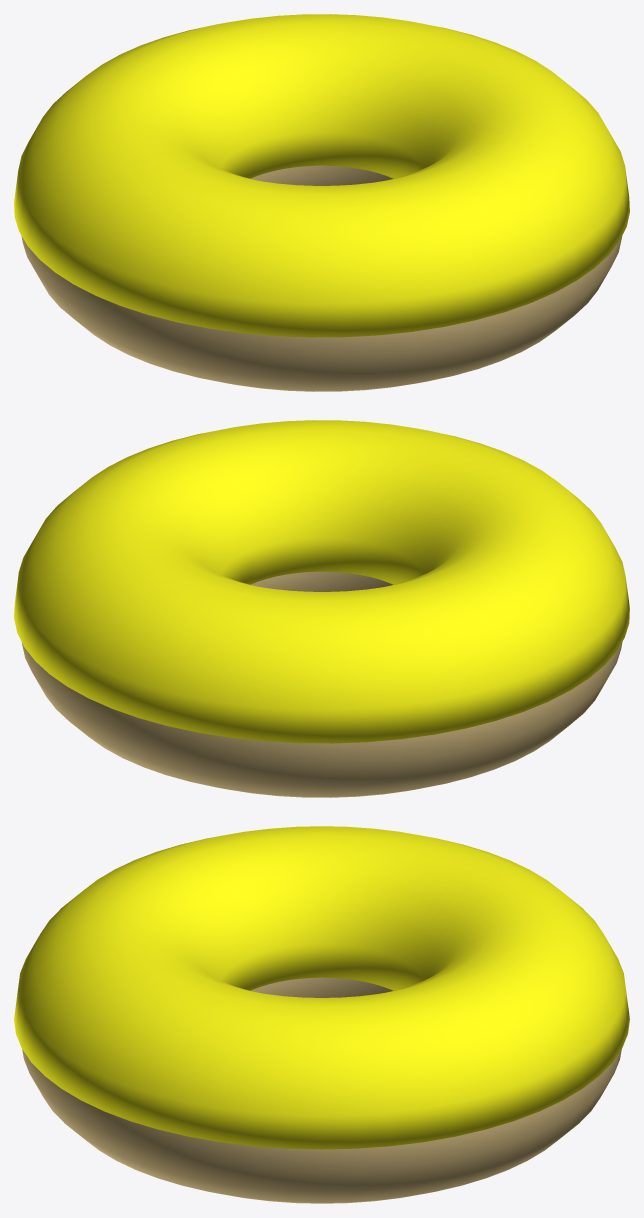
3 renders of one model, top to bottom at view 1: azimuth 30°, elevation 25°; view 2: azimuth 150°, elevation 25°; view 3: azimuth 270°, elevation 25°, orthographic.
Visible parts, largest first — view 1: Torus.002, Torus.001; view 2: Torus.002, Torus.001; view 3: Torus.002, Torus.001.
Boxes of the visible parts, left/top/right/bottom form: Torus.002: left=14, top=14, right=629, bottom=337; Torus.001: left=21, top=165, right=622, bottom=391; Torus.002: left=14, top=420, right=629, bottom=743; Torus.001: left=21, top=571, right=622, bottom=797; Torus.002: left=14, top=826, right=629, bottom=1149; Torus.001: left=22, top=977, right=621, bottom=1203.
Bounding box in the file's own units: 3.03 × 1.02 × 3.03.
